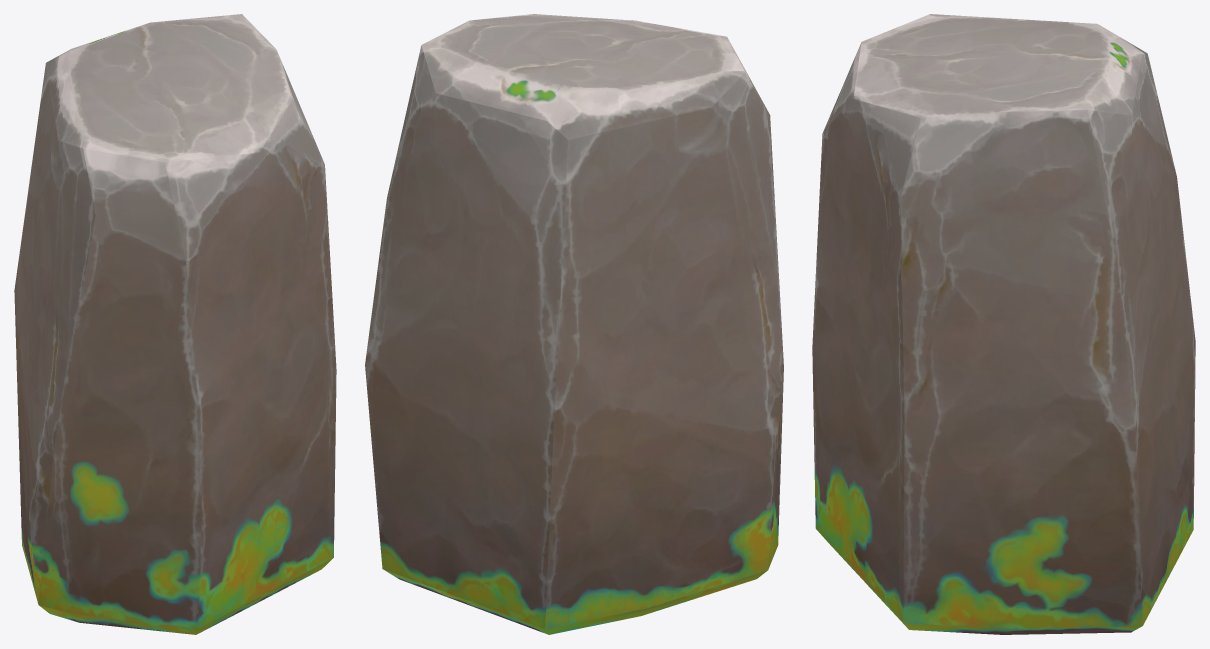
File: stone.glb
3 renders of one model, left to right at view 1: azimuth 30°, elevation 25°; view 2: azimuth 150°, elevation 25°; view 3: azimuth 270°, elevation 25°, orthographic. The views are drawn at different scales.
Parts seen in each view (by area): view 1: Stone_5_Low; view 2: Stone_5_Low; view 3: Stone_5_Low.
Part boxes in pixels (x1,y1,x2,y2): Stone_5_Low: [14, 14, 336, 634]; Stone_5_Low: [365, 14, 783, 634]; Stone_5_Low: [812, 14, 1195, 634].
Size of the model in its own units: 104 by 166 by 107.
Materials: 1 (1 with a texture image).
